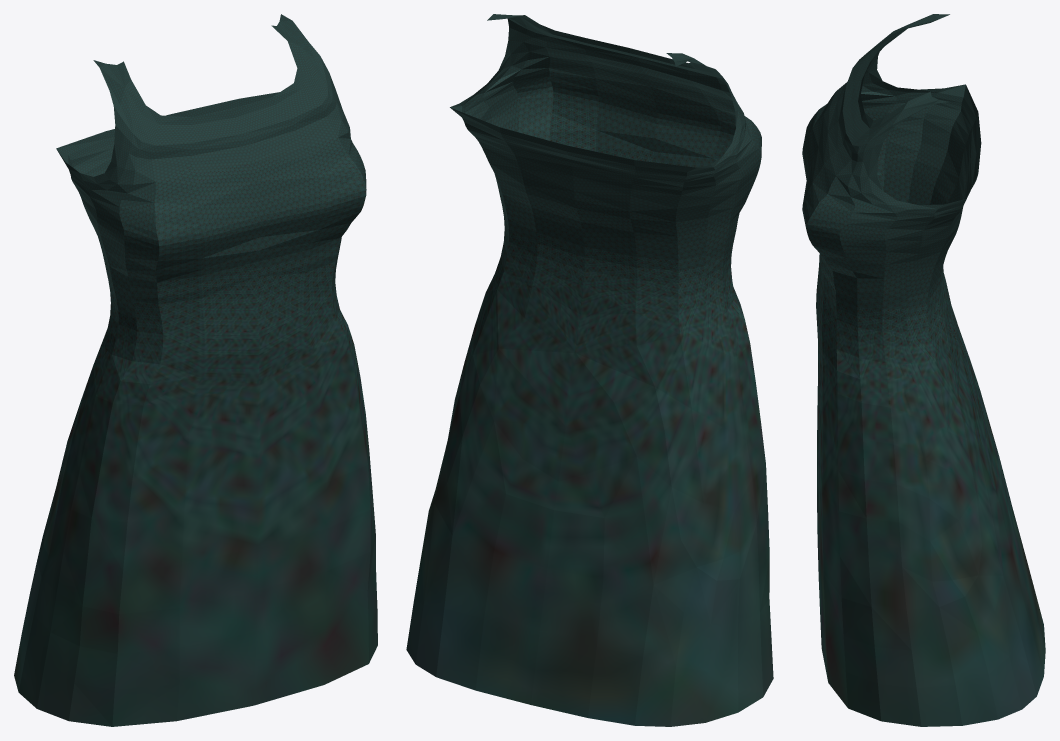
Rendered from dress_darkgreen.obj.
3 views of the same model, side by side, from view 1: azimuth 30°, elevation 25°; view 2: azimuth 150°, elevation 25°; view 3: azimuth 270°, elevation 25° (orthographic). The views are drawn at different scales.
Parts seen in each view (by area): view 1: V4_Dress_Starter; view 2: V4_Dress_Starter; view 3: V4_Dress_Starter.
Part boxes in pixels (x1,y1,x2,y2): V4_Dress_Starter: [14, 14, 377, 726]; V4_Dress_Starter: [406, 14, 773, 726]; V4_Dress_Starter: [802, 14, 1045, 726].
Size of the model in its own units: 0.4642 by 0.834 by 0.3101.
Materials: 1 (1 with a texture image).
